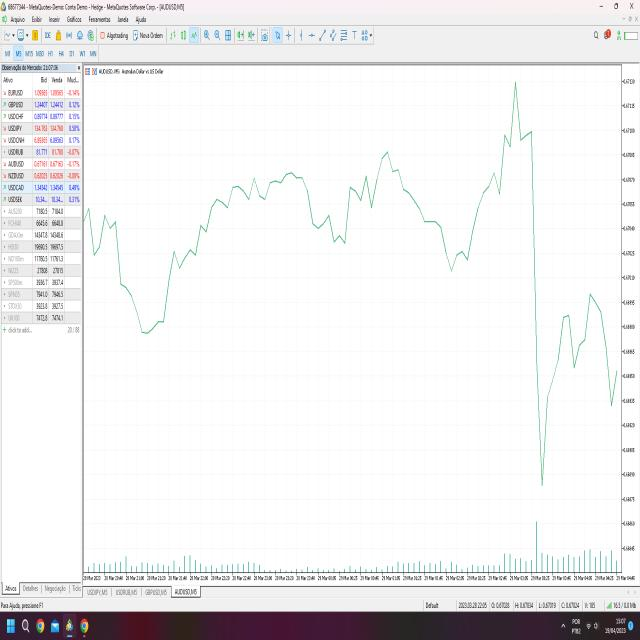oco: (492, 77, 546, 210)
